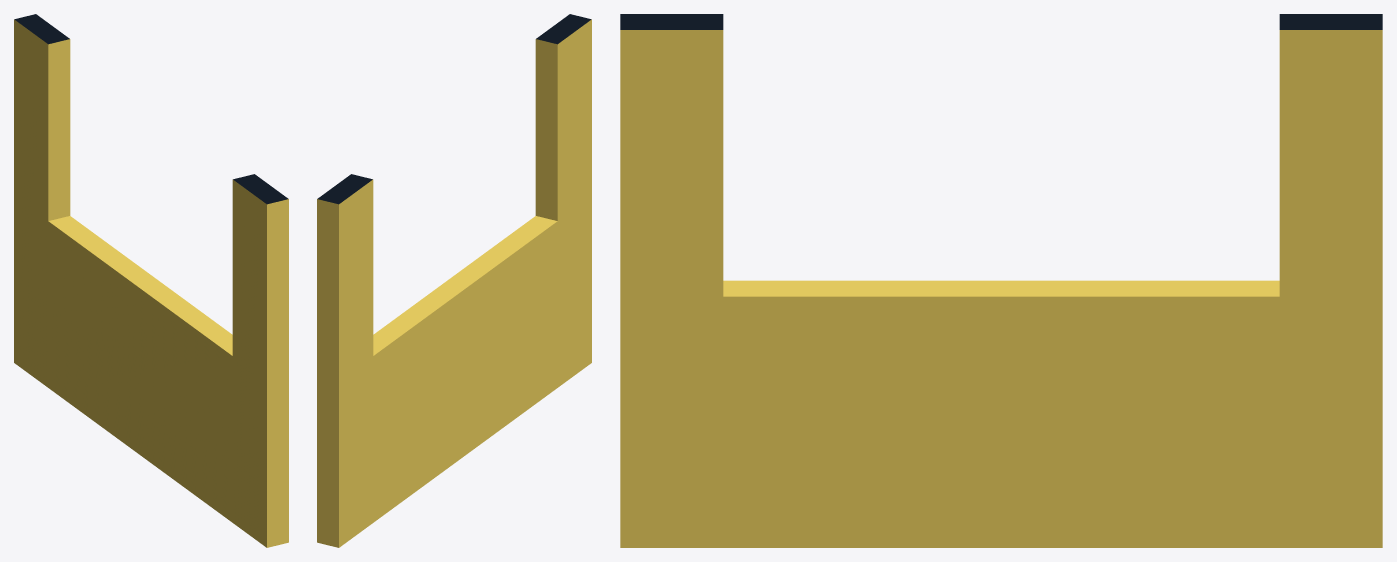
Rendered from Fenetre_Mur3.FBX.
3 renders of one model, left to right at view 1: azimuth 30°, elevation 25°; view 2: azimuth 150°, elevation 25°; view 3: azimuth 270°, elevation 25°, orthographic. The views are drawn at different scales.
Parts seen in each view (by area): view 1: Fenetre_Mur3; view 2: Fenetre_Mur3; view 3: Fenetre_Mur3.
Part boxes in pixels (bbox=[...]): Fenetre_Mur3: bbox=[14, 14, 288, 547]; Fenetre_Mur3: bbox=[317, 14, 591, 547]; Fenetre_Mur3: bbox=[620, 14, 1382, 547].
Bounding box in the file's own units: 0.1 × 1.5 × 2.
